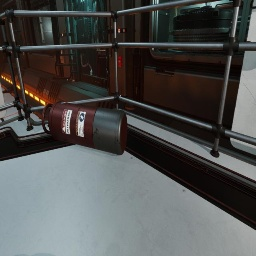FireAlarm ,: (118, 56, 122, 67), (22, 32, 24, 37)
NitrogenTank ,: (41, 102, 127, 155)
SafetySwitchPanel ,: (60, 38, 66, 64)
